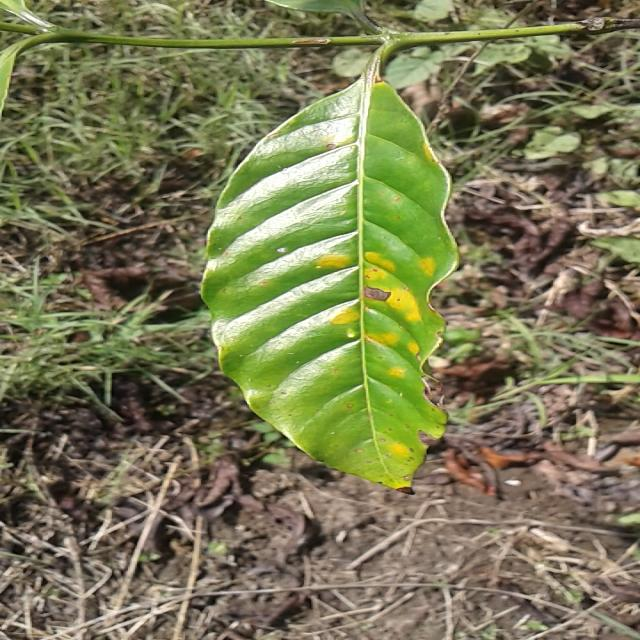Enfermedad-Roya: (199, 44, 459, 492)
